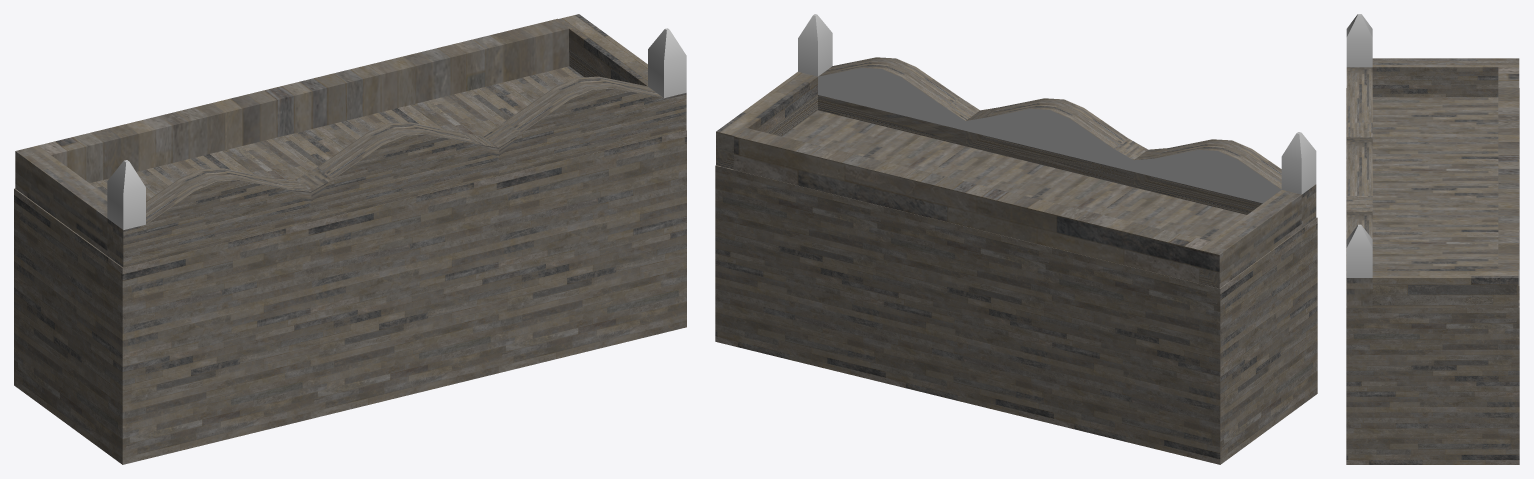
File: Top_1.fbx
3 renders of one model, left to right at view 1: azimuth 30°, elevation 25°; view 2: azimuth 150°, elevation 25°; view 3: azimuth 270°, elevation 25°, orthographic. The views are drawn at different scales.
Visible parts, largest first — view 1: Cube.020; view 2: Cube.020; view 3: Cube.020.
Boxes of the visible parts, box(x1,y1,x2,y2) form: Cube.020: box(14, 14, 686, 464); Cube.020: box(715, 14, 1317, 464); Cube.020: box(1346, 14, 1519, 464).
Size of the model in its own units: 200 by 299 by 600.
